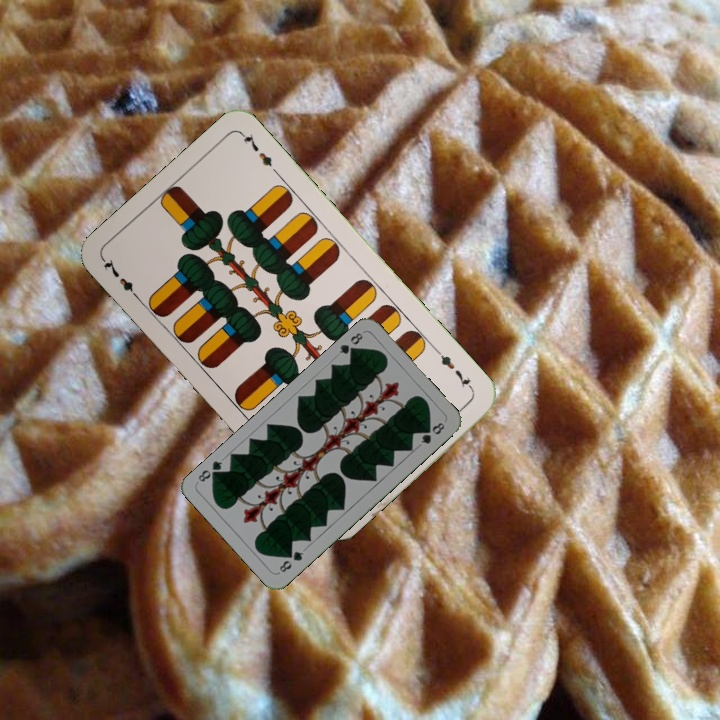E7: (432, 346, 477, 394), (99, 254, 143, 303)
G8: (335, 329, 365, 358), (275, 547, 306, 575)
